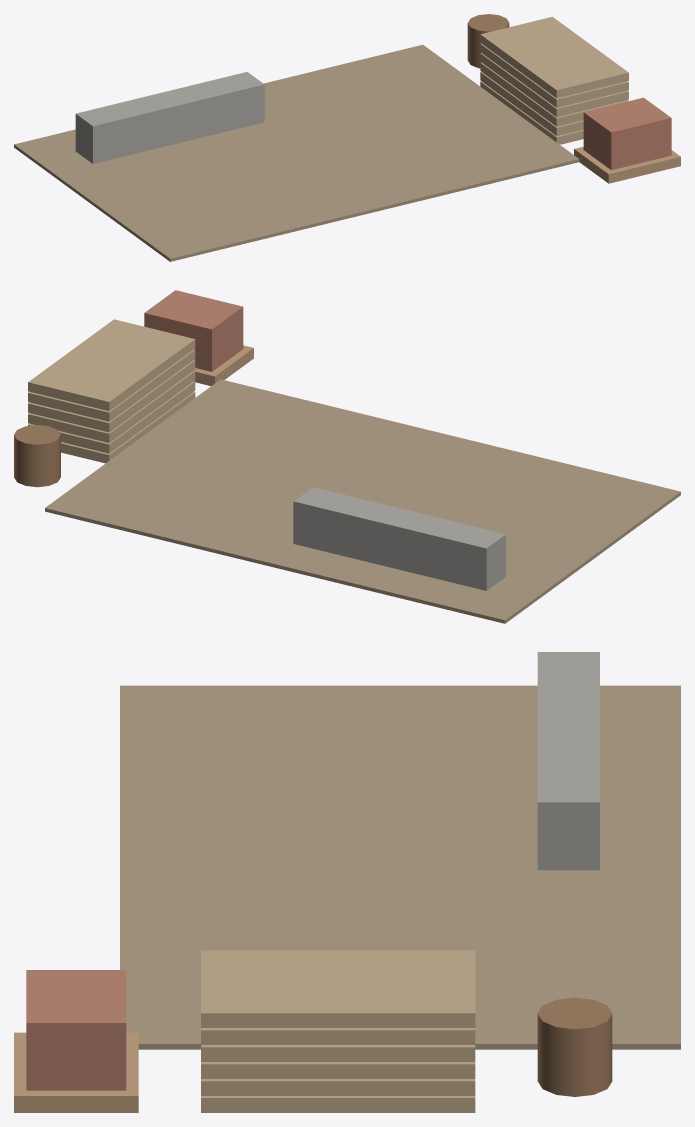
The model's file is garden_shed_site_1.glb.
3 renders of one model, top to bottom at view 1: azimuth 30°, elevation 25°; view 2: azimuth 150°, elevation 25°; view 3: azimuth 270°, elevation 25°, orthographic. The views are drawn at different scales.
Visible parts, largest first — view 1: body; view 2: body; view 3: body.
Part boxes in pixels (x1,y1,x2,y2): body: (14,14,680,261); body: (14,290,680,623); body: (14,652,680,1112).
Size of the model in its own units: 1.2 by 0.1316 by 0.8.
